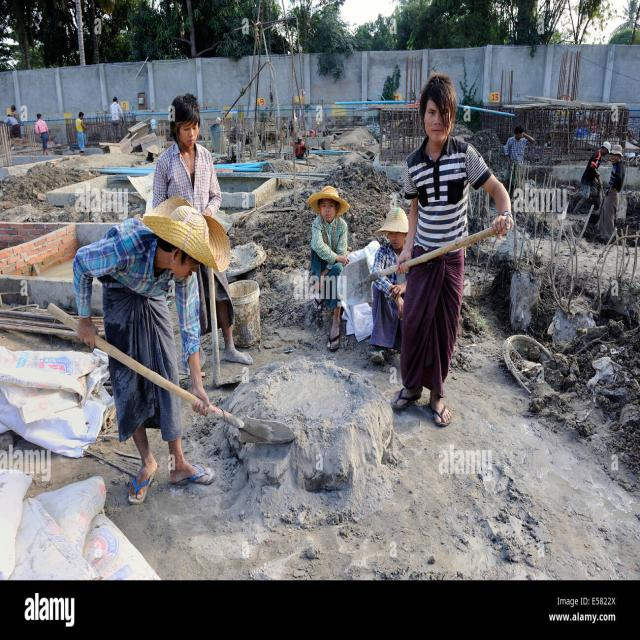hardhat: (3, 105, 17, 123)
no_boots: (213, 308, 259, 372), (116, 452, 162, 506), (165, 452, 218, 497), (322, 289, 351, 357), (389, 374, 425, 423), (423, 388, 460, 432), (366, 334, 389, 367)
no_gloves: (180, 378, 220, 423), (69, 315, 102, 366), (488, 207, 516, 239), (395, 247, 420, 275), (389, 288, 410, 320), (387, 273, 411, 299), (336, 253, 353, 281), (314, 267, 331, 294), (516, 128, 526, 140)
no_hardhat: (134, 177, 233, 290), (415, 71, 471, 145), (166, 89, 206, 154), (304, 181, 351, 221), (378, 207, 414, 252), (509, 121, 528, 153), (609, 141, 628, 164), (110, 92, 124, 108), (604, 137, 613, 159), (74, 105, 85, 121), (33, 109, 45, 123)
no_vest: (69, 211, 206, 364), (401, 134, 493, 263), (143, 138, 231, 220), (304, 205, 354, 272), (374, 243, 411, 313), (504, 133, 536, 173), (583, 147, 605, 194), (605, 161, 626, 204), (107, 100, 129, 128), (32, 116, 54, 137), (76, 115, 90, 132), (4, 114, 20, 126)
person: (62, 202, 229, 508), (390, 57, 519, 438), (146, 88, 260, 371), (294, 182, 358, 368), (368, 206, 414, 374), (572, 124, 615, 220), (597, 136, 631, 247), (500, 120, 540, 198), (33, 110, 62, 156), (71, 101, 94, 157), (106, 94, 130, 142), (3, 99, 26, 148)
